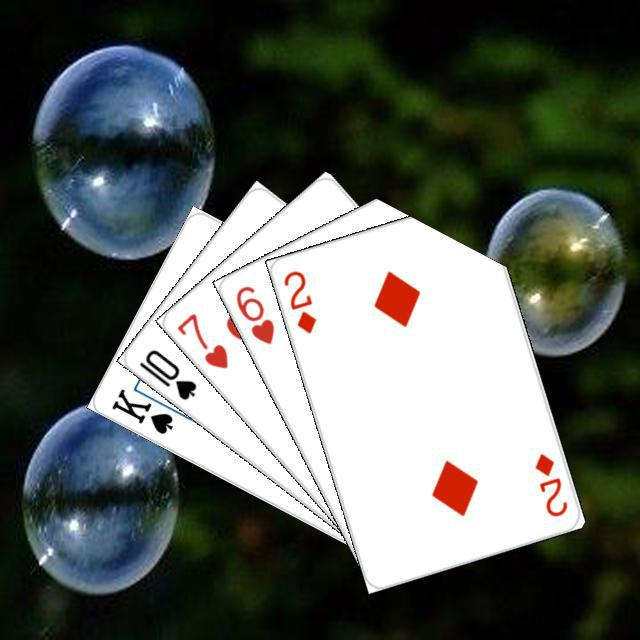10s: (134, 344, 199, 402)
2d: (278, 265, 319, 336), (529, 448, 569, 519)
6h: (230, 280, 276, 347)
7h: (171, 308, 230, 371)
Ks: (106, 383, 175, 436)
